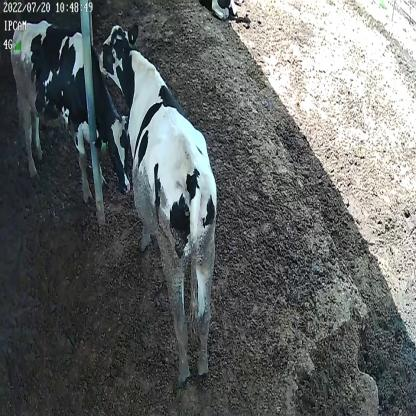cow: (96, 20, 220, 386), (8, 16, 132, 206)
